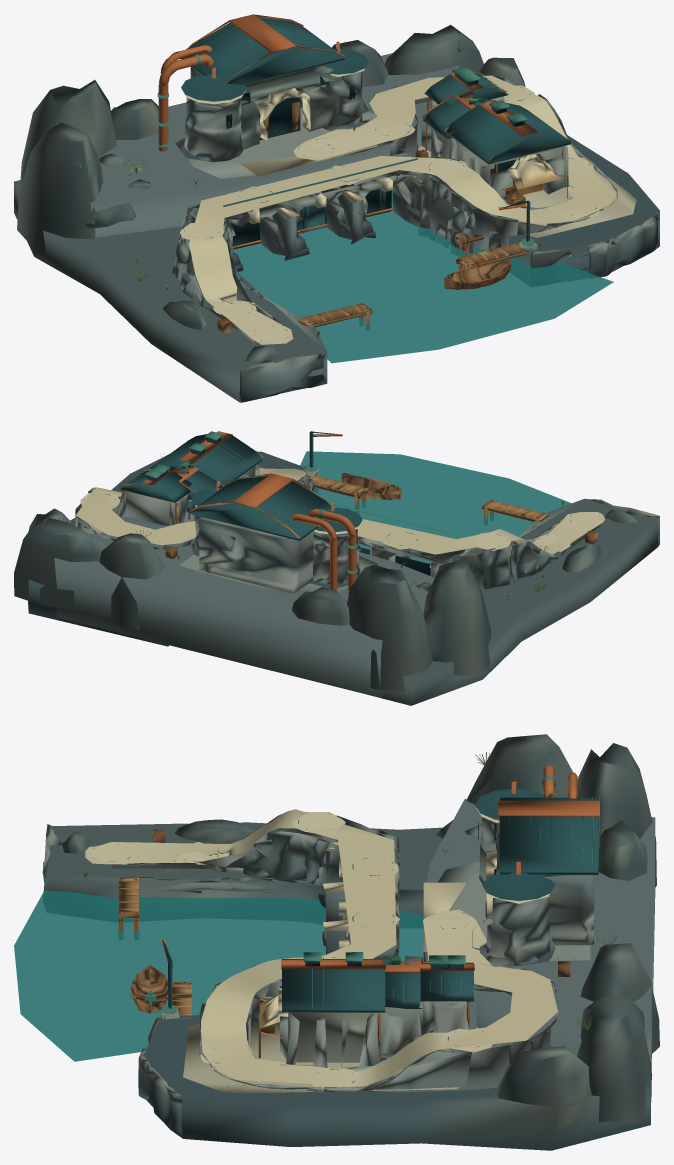
Rendered from sturmbastion.far.glb.
3 views of the same model, one above another, from view 1: azimuth 30°, elevation 25°; view 2: azimuth 150°, elevation 25°; view 3: azimuth 270°, elevation 25° (orthographic). The views are drawn at different scales.
Parts seen in each view (by area): view 1: 01_Masonry • static batch, 07_HarbourWater • static batch, 02_Limestone • static batch, 03_PaintedIron • static batch, 04_Copper • static batch, 05_Timber • static batch; view 2: 01_Masonry • static batch, 07_HarbourWater • static batch, 03_PaintedIron • static batch, 02_Limestone • static batch, 04_Copper • static batch, 05_Timber • static batch; view 3: 01_Masonry • static batch, 02_Limestone • static batch, 07_HarbourWater • static batch, 03_PaintedIron • static batch, 04_Copper • static batch, 05_Timber • static batch.
Part boxes in pixels (left/top/right/bottom): 01_Masonry • static batch: left=14, top=25, right=659, bottom=402; 07_HarbourWater • static batch: left=233, top=191, right=613, bottom=363; 02_Limestone • static batch: left=180, top=68, right=636, bottom=344; 03_PaintedIron • static batch: left=180, top=17, right=570, bottom=249; 04_Copper • static batch: left=157, top=14, right=596, bottom=340; 05_Timber • static batch: left=217, top=101, right=567, bottom=333; 01_Masonry • static batch: left=14, top=451, right=659, bottom=705; 07_HarbourWater • static batch: left=300, top=451, right=571, bottom=575; 03_PaintedIron • static batch: left=120, top=431, right=430, bottom=575; 02_Limestone • static batch: left=76, top=466, right=604, bottom=555; 04_Copper • static batch: left=84, top=431, right=599, bottom=594; 05_Timber • static batch: left=165, top=473, right=597, bottom=558; 01_Masonry • static batch: left=42, top=734, right=659, bottom=1150; 02_Limestone • static batch: left=85, top=808, right=557, bottom=1093; 07_HarbourWater • static batch: left=14, top=890, right=423, bottom=1061; 03_PaintedIron • static batch: left=163, top=788, right=598, bottom=1012; 04_Copper • static batch: left=93, top=765, right=599, bottom=1086; 05_Timber • static batch: left=118, top=829, right=570, bottom=1058.
Bounding box in the file's own units: 31.83 × 9.69 × 29.82.
